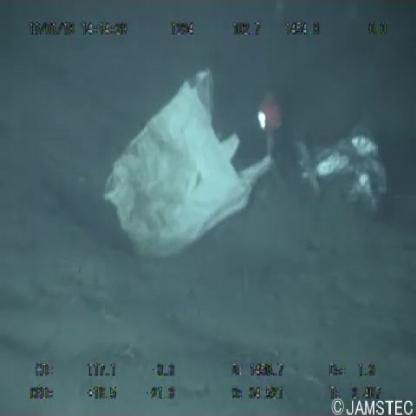Rác: (98, 60, 278, 262)
